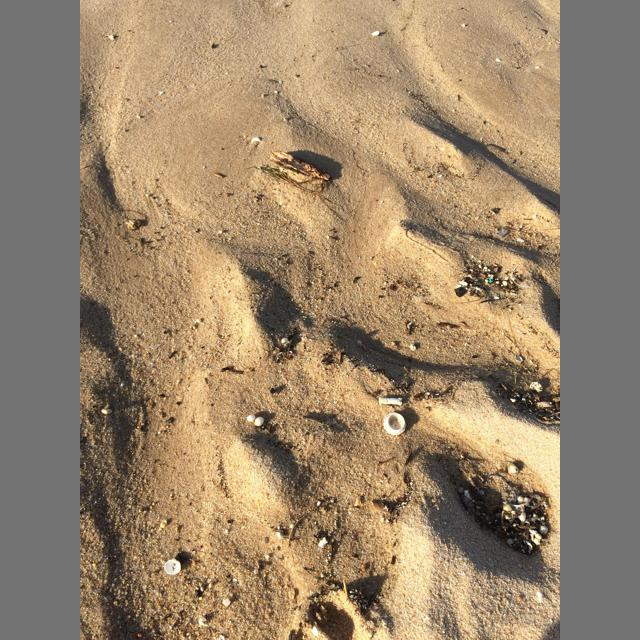litter: (383, 412, 407, 435), (379, 397, 403, 405)
